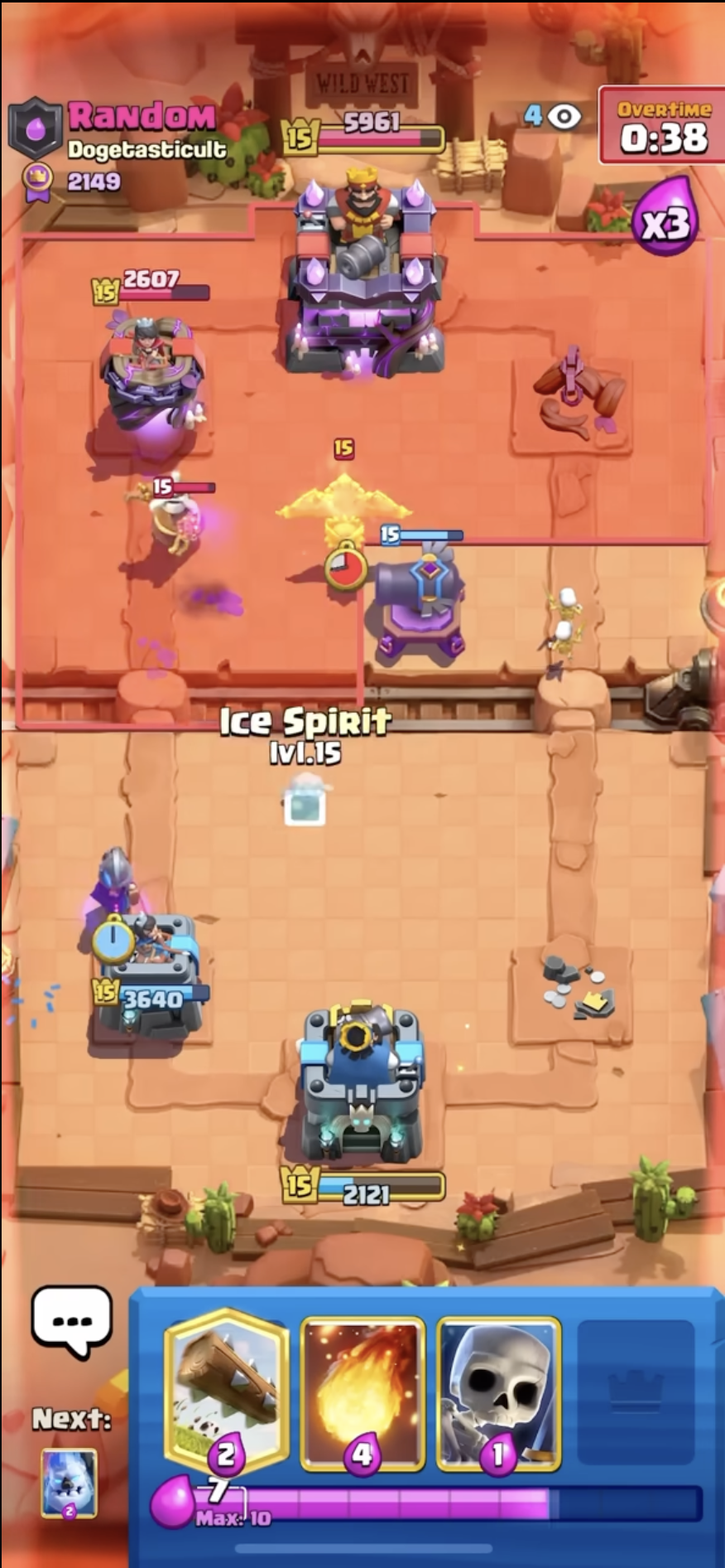evo_cannon: (356, 508, 485, 676)
evo_musketeer: (83, 829, 154, 938)
